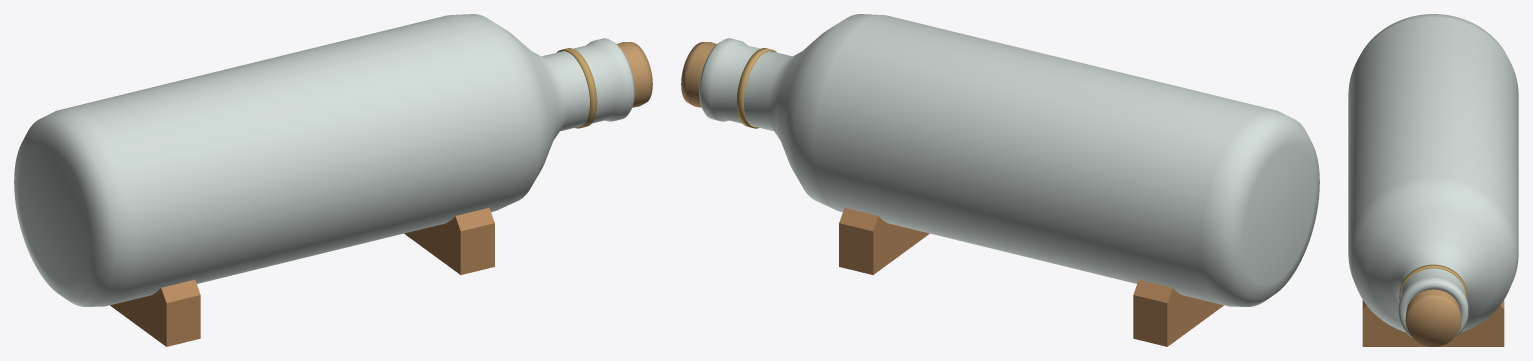
File: pirate-bottle-v2.glb
The picture shows the model from 3 angles, left to right: view 1: azimuth 30°, elevation 25°; view 2: azimuth 150°, elevation 25°; view 3: azimuth 270°, elevation 25°; orthographic projection. The views are drawn at different scales.
Parts seen in each view (by area): view 1: Bottle | thick transparent glass, Cradle | shaped maple saddle, Cradle | shaped maple saddle.001, Bottle | cork stopper, Bottle | neck brass collar; view 2: Bottle | thick transparent glass, Cradle | shaped maple saddle, Cradle | shaped maple saddle.001, Bottle | cork stopper, Bottle | neck brass collar; view 3: Bottle | thick transparent glass, Cradle | shaped maple saddle.001, Bottle | cork stopper, Bottle | neck brass collar.
Part boxes in pixels (x1=…): Bottle | thick transparent glass: x1=14, y1=14, x2=634, y2=306; Cradle | shaped maple saddle: x1=110, y1=279, x2=200, y2=346; Cradle | shaped maple saddle.001: x1=404, y1=207, x2=494, y2=274; Bottle | cork stopper: x1=617, y1=42, x2=652, y2=107; Bottle | neck brass collar: x1=557, y1=48, x2=597, y2=128; Bottle | thick transparent glass: x1=699, y1=14, x2=1319, y2=306; Cradle | shaped maple saddle: x1=1133, y1=279, x2=1223, y2=346; Cradle | shaped maple saddle.001: x1=839, y1=207, x2=929, y2=274; Bottle | cork stopper: x1=681, y1=42, x2=716, y2=107; Bottle | neck brass collar: x1=736, y1=48, x2=776, y2=128; Bottle | thick transparent glass: x1=1348, y1=14, x2=1518, y2=337; Cradle | shaped maple saddle.001: x1=1362, y1=300, x2=1504, y2=346; Bottle | cork stopper: x1=1405, y1=289, x2=1461, y2=346; Bottle | neck brass collar: x1=1399, y1=264, x2=1467, y2=299.
Bounding box in the file's own units: 1.88 × 0.647 × 0.564.
